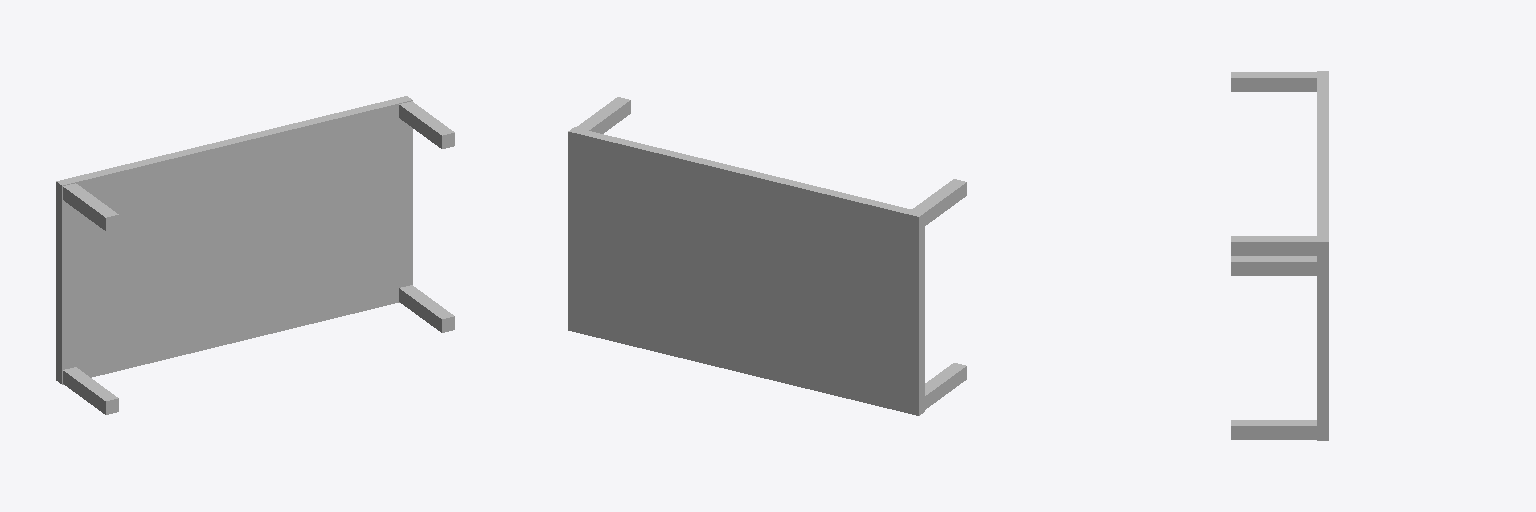
Rendered from random_table83.obj.
3 views of the same model, side by side, from view 1: azimuth 30°, elevation 25°; view 2: azimuth 150°, elevation 25°; view 3: azimuth 270°, elevation 25° (orthographic).
Visible parts, largest first — view 1: Table_Cube.1480, TableLeg2_Cube.1483, TableLeg1_Cube.1482, TableLeg3_Cube.1484, TableLeg0_Cube.1481; view 2: Table_Cube.1480, TableLeg1_Cube.1482, TableLeg3_Cube.1484, TableLeg0_Cube.1481; view 3: Table_Cube.1480, TableLeg0_Cube.1481, TableLeg1_Cube.1482, TableLeg2_Cube.1483, TableLeg3_Cube.1484.
Boxes of the visible parts, x1=… form: Table_Cube.1480: x1=56, y1=96, x2=412, y2=384; TableLeg2_Cube.1483: x1=399, y1=285, x2=454, y2=332; TableLeg1_Cube.1482: x1=63, y1=183, x2=118, y2=230; TableLeg3_Cube.1484: x1=63, y1=367, x2=118, y2=414; TableLeg0_Cube.1481: x1=399, y1=101, x2=454, y2=148; Table_Cube.1480: x1=568, y1=127, x2=924, y2=415; TableLeg1_Cube.1482: x1=912, y1=179, x2=966, y2=225; TableLeg3_Cube.1484: x1=925, y1=363, x2=966, y2=409; TableLeg0_Cube.1481: x1=576, y1=97, x2=630, y2=133; Table_Cube.1480: x1=1317, y1=71, x2=1328, y2=440; TableLeg0_Cube.1481: x1=1231, y1=236, x2=1316, y2=255; TableLeg1_Cube.1482: x1=1231, y1=72, x2=1316, y2=91; TableLeg2_Cube.1483: x1=1231, y1=420, x2=1316, y2=439; TableLeg3_Cube.1484: x1=1231, y1=256, x2=1316, y2=275.
Size of the model in its own units: 13.77 by 7.47 by 3.31.